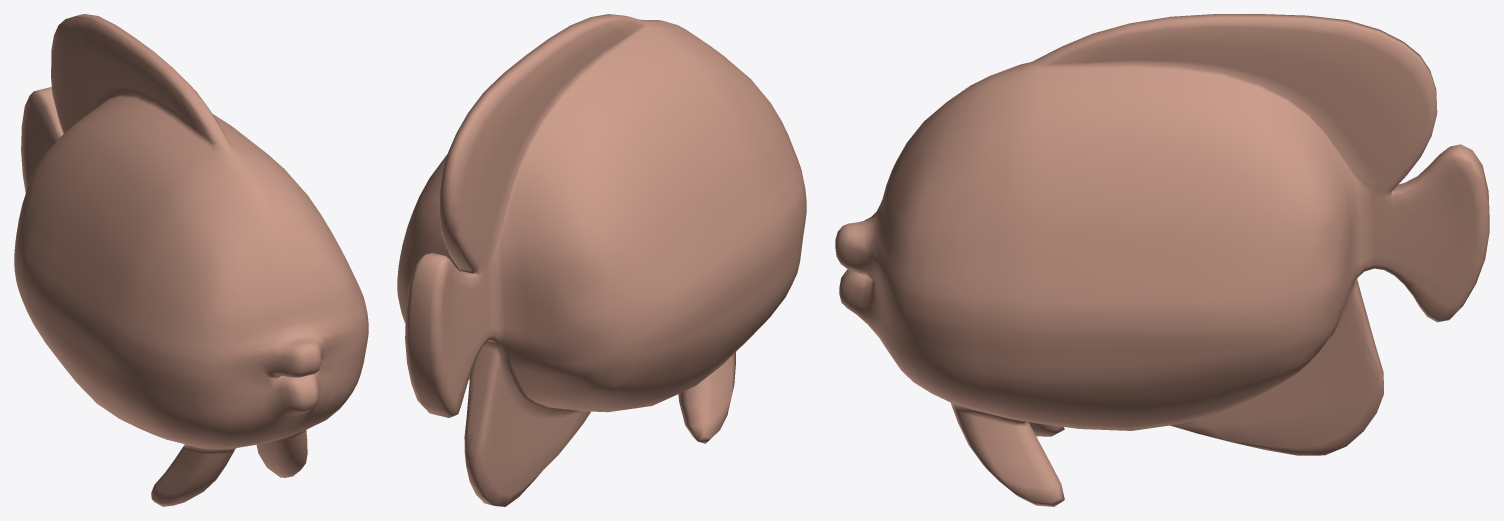
The model's file is Pez_Mariposa.fbx.
3 renders of one model, left to right at view 1: azimuth 30°, elevation 25°; view 2: azimuth 150°, elevation 25°; view 3: azimuth 270°, elevation 25°, orthographic. The views are drawn at different scales.
Parts seen in each view (by area): view 1: Pez_Mariposa; view 2: Pez_Mariposa; view 3: Pez_Mariposa.
Part boxes in pixels (x1,y1,x2,y2): Pez_Mariposa: (14,14,368,506); Pez_Mariposa: (397,14,806,506); Pez_Mariposa: (835,14,1489,506).
Bounding box in the file's own units: 1.67 × 2.6 × 3.39.
